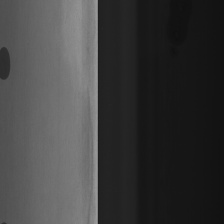oil_spot: (0, 42, 13, 90)
